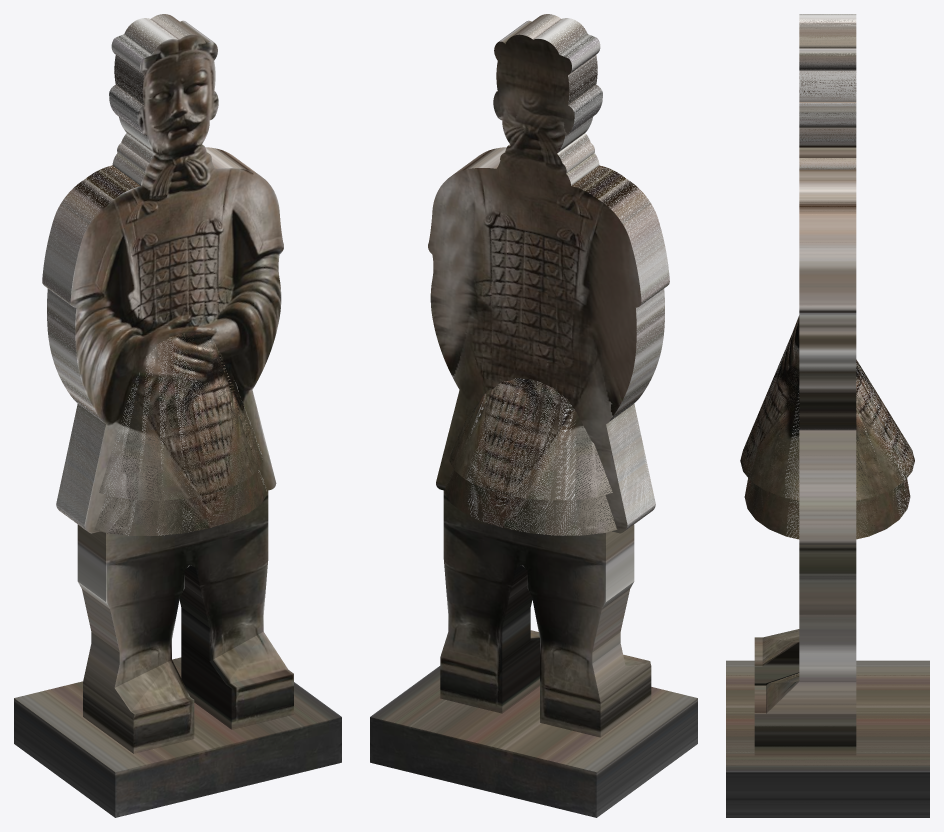
File: Sculpture 4.dae
The picture shows the model from 3 angles, left to right: view 1: azimuth 30°, elevation 25°; view 2: azimuth 150°, elevation 25°; view 3: azimuth 270°, elevation 25°; orthographic projection.
Visible parts, largest first — view 1: Composant_5 (×5); view 2: Composant_5 (×6); view 3: Composant_5 (×4).
Part boxes in pixels (x1,y1,x2,y2): Composant_5 (×5): (14,14,341,817); Composant_5 (×6): (370,14,697,817); Composant_5 (×4): (726,14,929,817).
Bounding box in the file's own units: 152 × 113 × 451.
3 materials, 2 textured.
